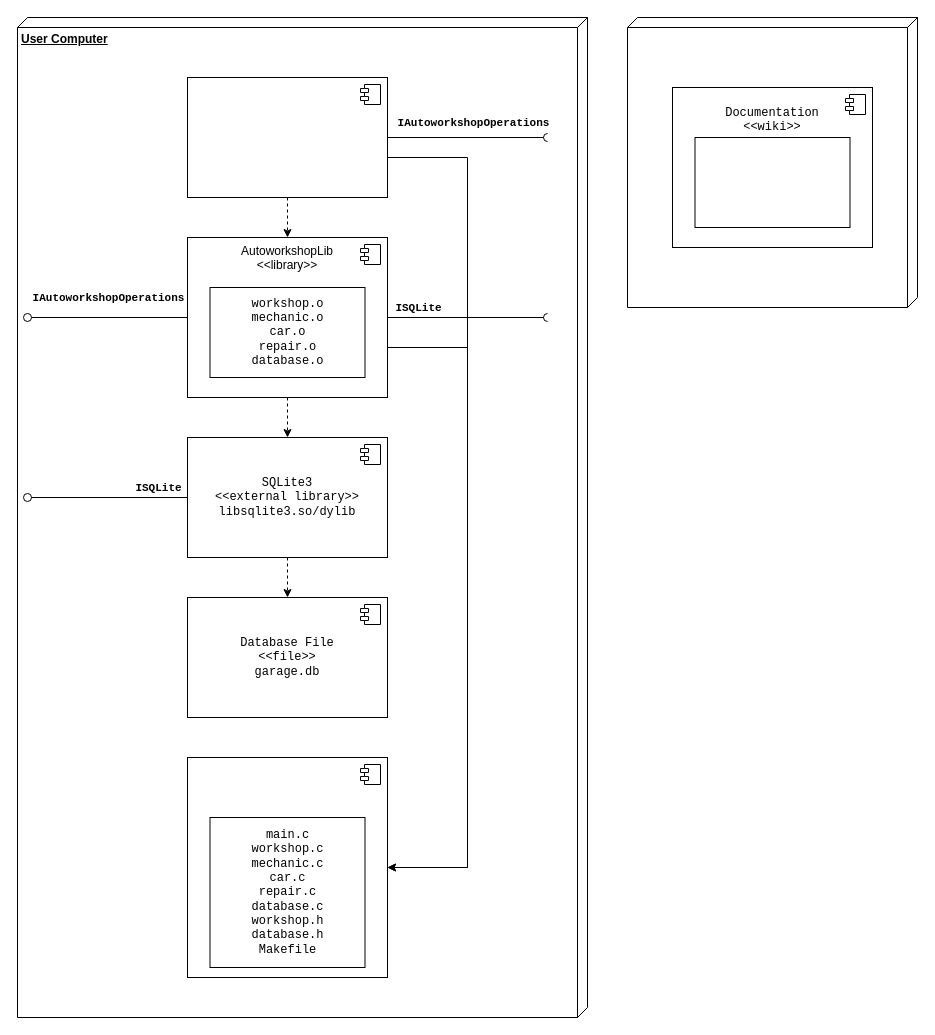
Image size: 935x1035. Some labels were removed from this diagram. Here are the shapes that lost their labels. From the top down, the box of each, then its label:
(186, 76, 388, 198): AutoworkshopApp <<executable>> autoworkshop_app.exe
(626, 16, 918, 308): Documentation Server
(694, 136, 850, 228): README.md Wiki pages UML diagrams SQL scripts
(186, 756, 388, 978): Source Files <<source code>>
